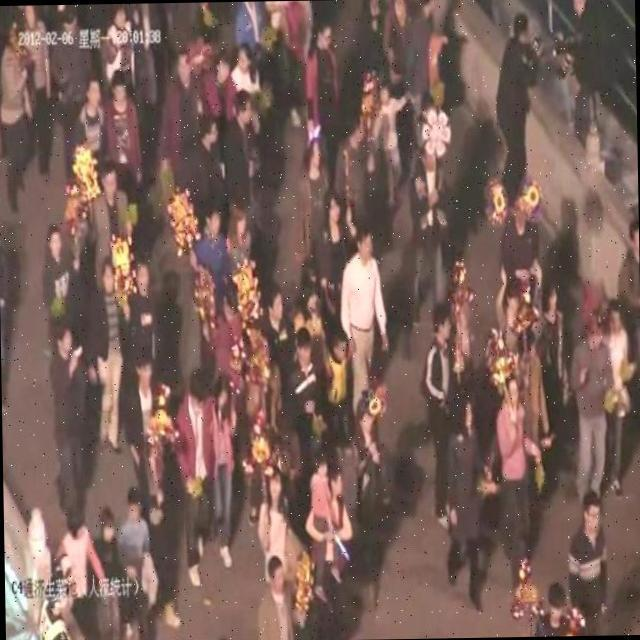person: (439, 381, 495, 610), (494, 362, 544, 602), (46, 314, 97, 516), (174, 366, 219, 594), (342, 222, 392, 408), (421, 290, 458, 540), (307, 455, 356, 640), (343, 214, 393, 392), (126, 348, 174, 524), (85, 259, 129, 449), (574, 312, 616, 510), (409, 134, 452, 322), (560, 481, 612, 636), (600, 297, 637, 508), (209, 364, 244, 581), (117, 485, 162, 640), (563, 488, 610, 636), (0, 20, 35, 216), (499, 12, 534, 196), (561, 0, 603, 151), (334, 107, 382, 238), (372, 76, 416, 215), (56, 505, 101, 639), (22, 5, 56, 179), (263, 281, 298, 444), (304, 19, 348, 144), (189, 200, 235, 316), (497, 183, 552, 280), (288, 322, 326, 462), (162, 46, 208, 156), (404, 0, 449, 111), (94, 504, 130, 640), (292, 128, 330, 254), (105, 66, 146, 178), (36, 226, 78, 335), (256, 549, 304, 640), (619, 218, 640, 425), (56, 4, 88, 136), (74, 72, 110, 180), (128, 248, 162, 362), (228, 90, 260, 210), (349, 0, 394, 84), (256, 462, 293, 558), (228, 200, 255, 315), (194, 112, 222, 216), (532, 578, 580, 636), (224, 44, 263, 106), (0, 203, 10, 412), (208, 50, 238, 114), (230, 1, 270, 48)
